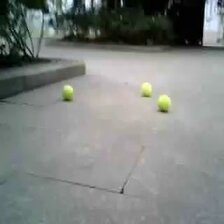tennis: (157, 95, 171, 111), (62, 85, 74, 99), (140, 82, 152, 96)
